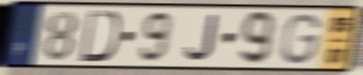8: (41, 7, 81, 64)
9: (237, 10, 277, 67), (137, 10, 174, 65)
D: (77, 8, 122, 64)
G: (279, 12, 322, 66)
J: (183, 13, 219, 63)
